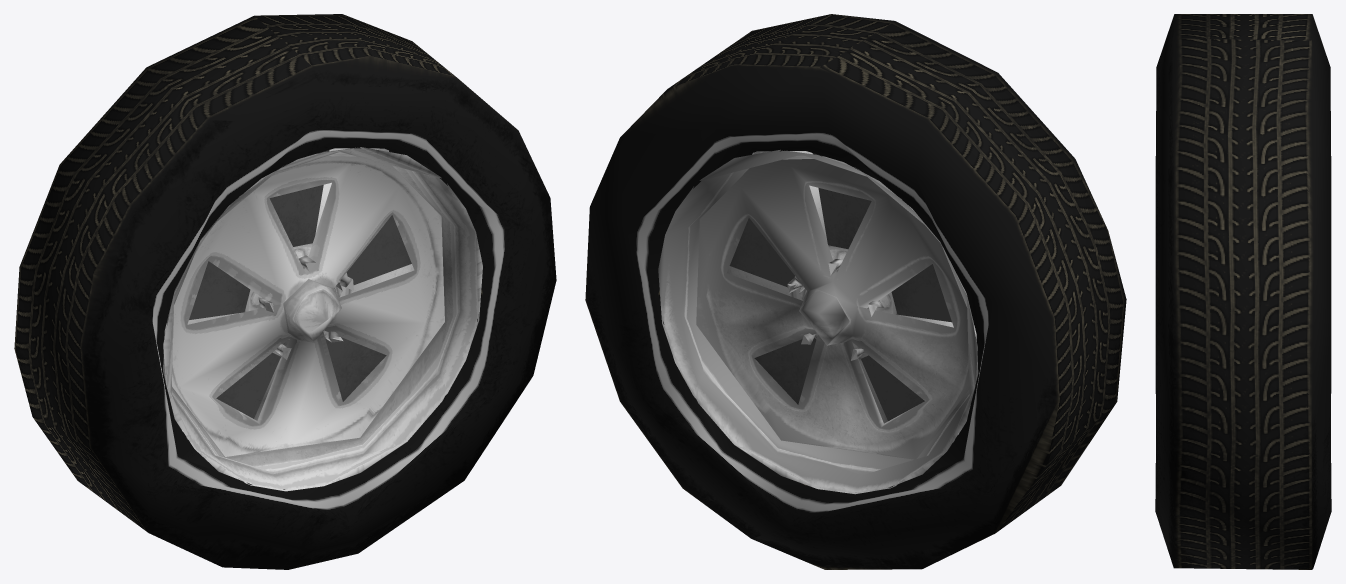
The model's file is wheel_d1.obj.
3 views of the same model, side by side, from view 1: azimuth 30°, elevation 25°; view 2: azimuth 150°, elevation 25°; view 3: azimuth 270°, elevation 25° (orthographic).
Visible parts, largest first — view 1: wheel1_Wheel_0; view 2: wheel1_Wheel_0; view 3: wheel1_Wheel_0.
Boxes of the visible parts, x1,y1,x2,y2 form: wheel1_Wheel_0: (14,14,556,569); wheel1_Wheel_0: (585,14,1126,569); wheel1_Wheel_0: (1155,14,1331,569).
Bounding box in the file's own units: 0.1519 × 0.1536 × 0.0482.
Materials: 1 (1 with a texture image).
